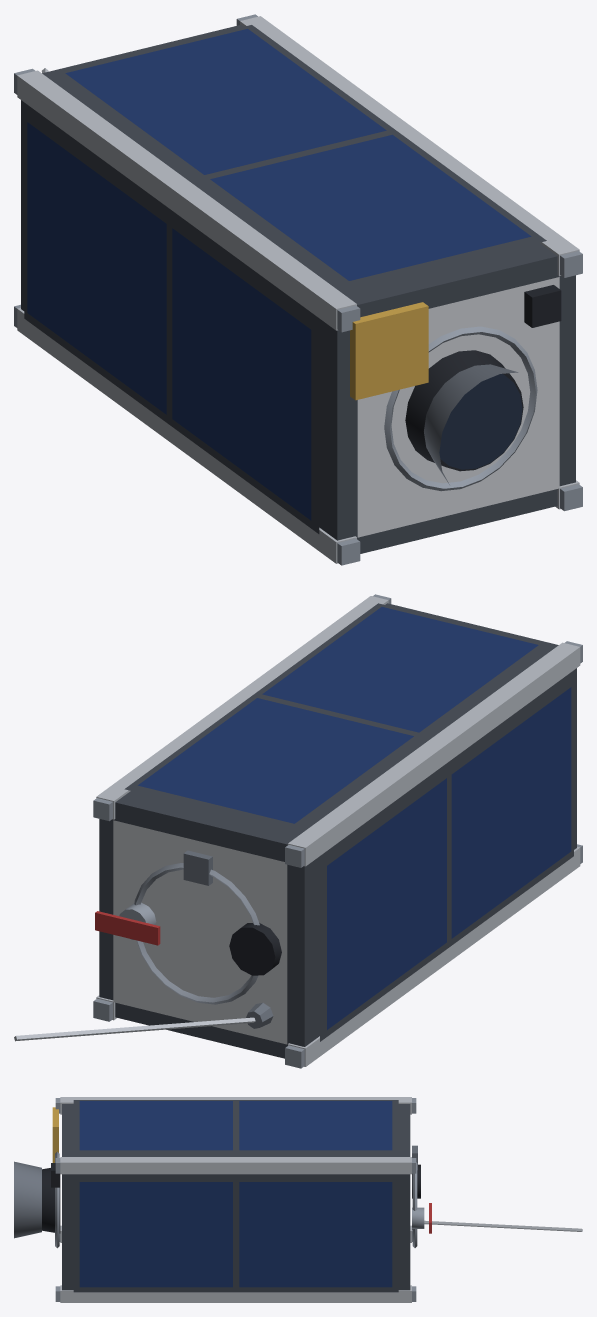
The model's file is cubesat-2u.glb.
3 renders of one model, top to bottom at view 1: azimuth 30°, elevation 25°; view 2: azimuth 150°, elevation 25°; view 3: azimuth 270°, elevation 25°, orthographic. The views are drawn at different scales.
Visible parts, largest first — view 1: body, solar-panel; view 2: body, solar-panel, foil; view 3: solar-panel, body, foil.
Boxes of the visible parts, x1,y1,x2,y2 form: body: [14, 14, 582, 565]; solar-panel: [27, 28, 531, 520]; body: [93, 594, 582, 1068]; solar-panel: [138, 607, 571, 1029]; foil: [14, 1017, 255, 1041]; solar-panel: [79, 1101, 392, 1287]; body: [14, 1097, 431, 1302]; foil: [424, 1220, 582, 1231].
Size of the model in its own units: 0.106 by 0.106 by 0.3676.
